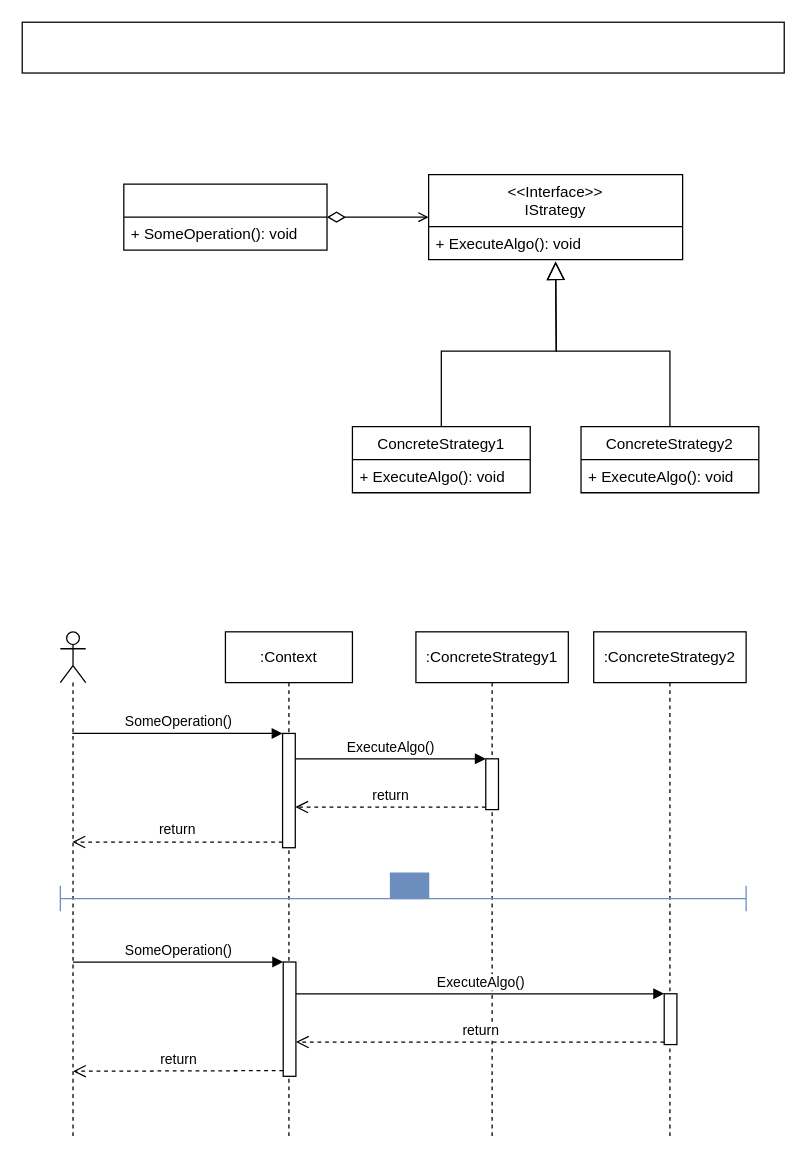
Some shapes in this 806 by 1162 pixel diagram are drawn without their labels. Each missing label, with the box of its shape:
600 px MAX width: (21, 21, 784, 73)
Context: (123, 183, 327, 250)
OR: (389, 872, 429, 899)
